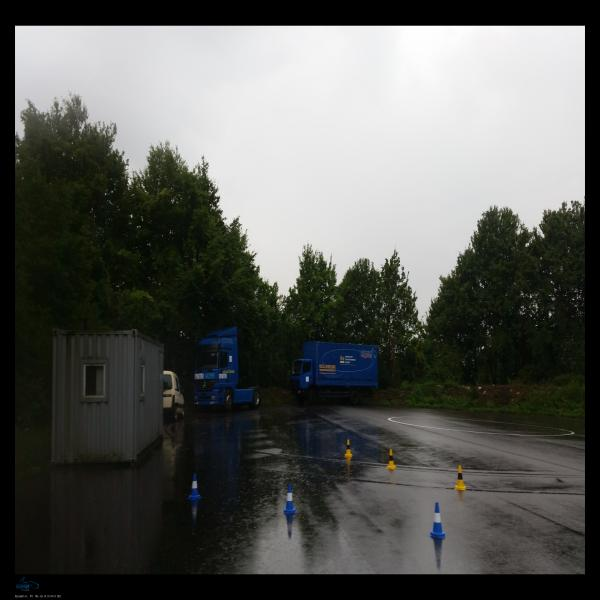blue_cone: (429, 502, 446, 538), (188, 473, 202, 500), (284, 484, 297, 513)
yellow_cone: (454, 465, 466, 490), (386, 449, 397, 469), (344, 439, 353, 457)
